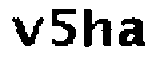5: (50, 6, 76, 48)
a: (115, 16, 146, 50)
h: (82, 5, 112, 51)
v: (8, 14, 44, 48)
